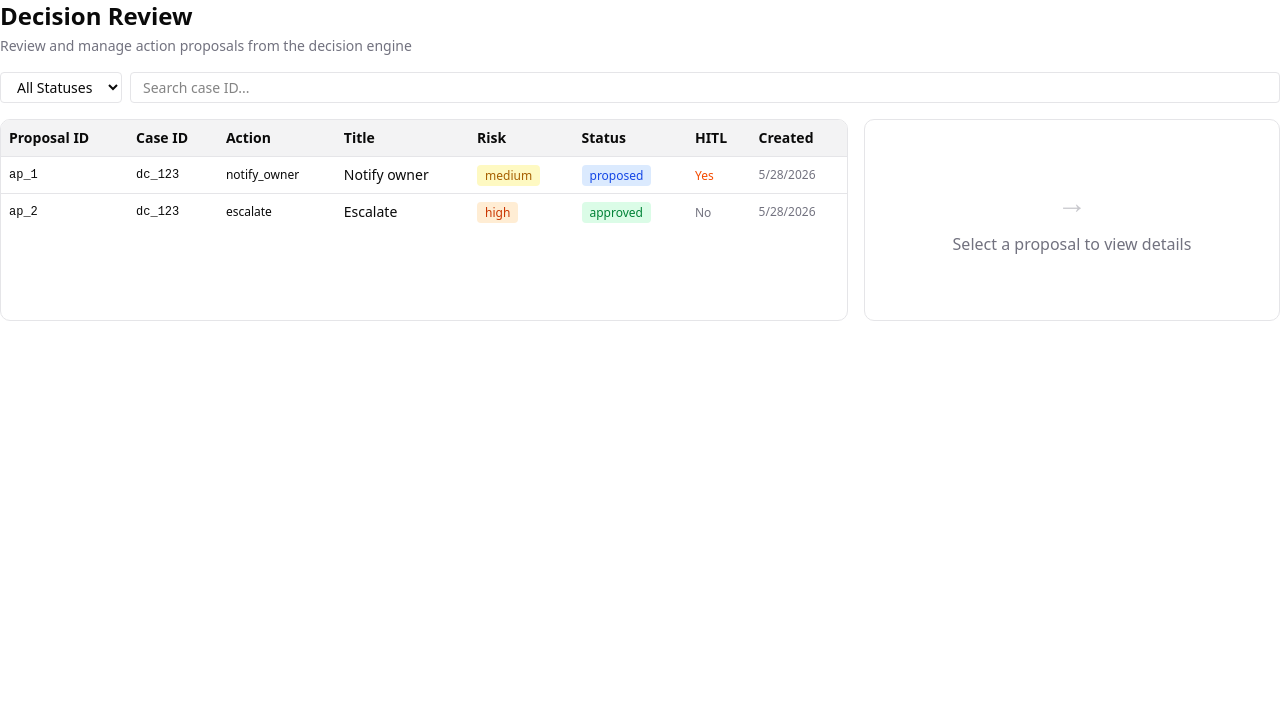
Test case: DecisionReview › shows proposal detail panel when a row is clicked
Click the text "notify_owner". click: {"x": 277, "y": 175}
box: x1=218 y1=156 x2=336 y2=194
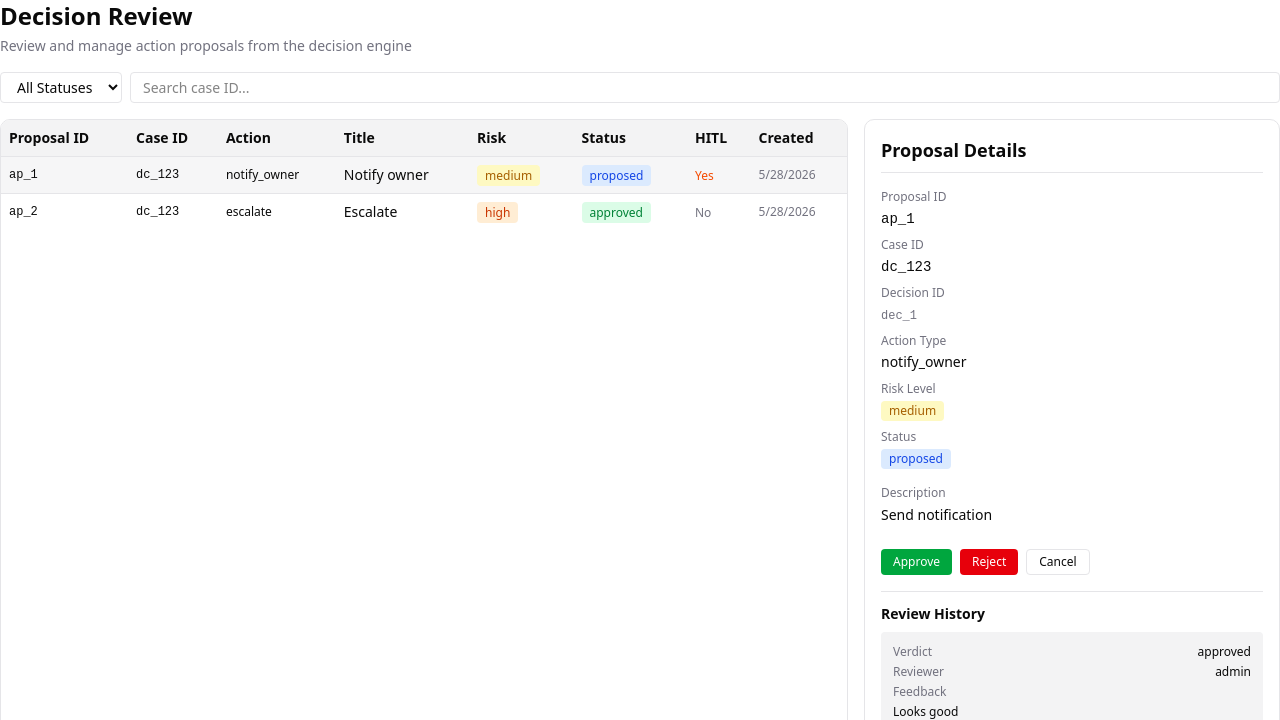
Expected: the heading "Proposal Details" is shown, x1=881 y1=136 x2=1263 y2=173
Expected: the text "dec_1" is shown, x1=881 y1=309 x2=917 y2=323
